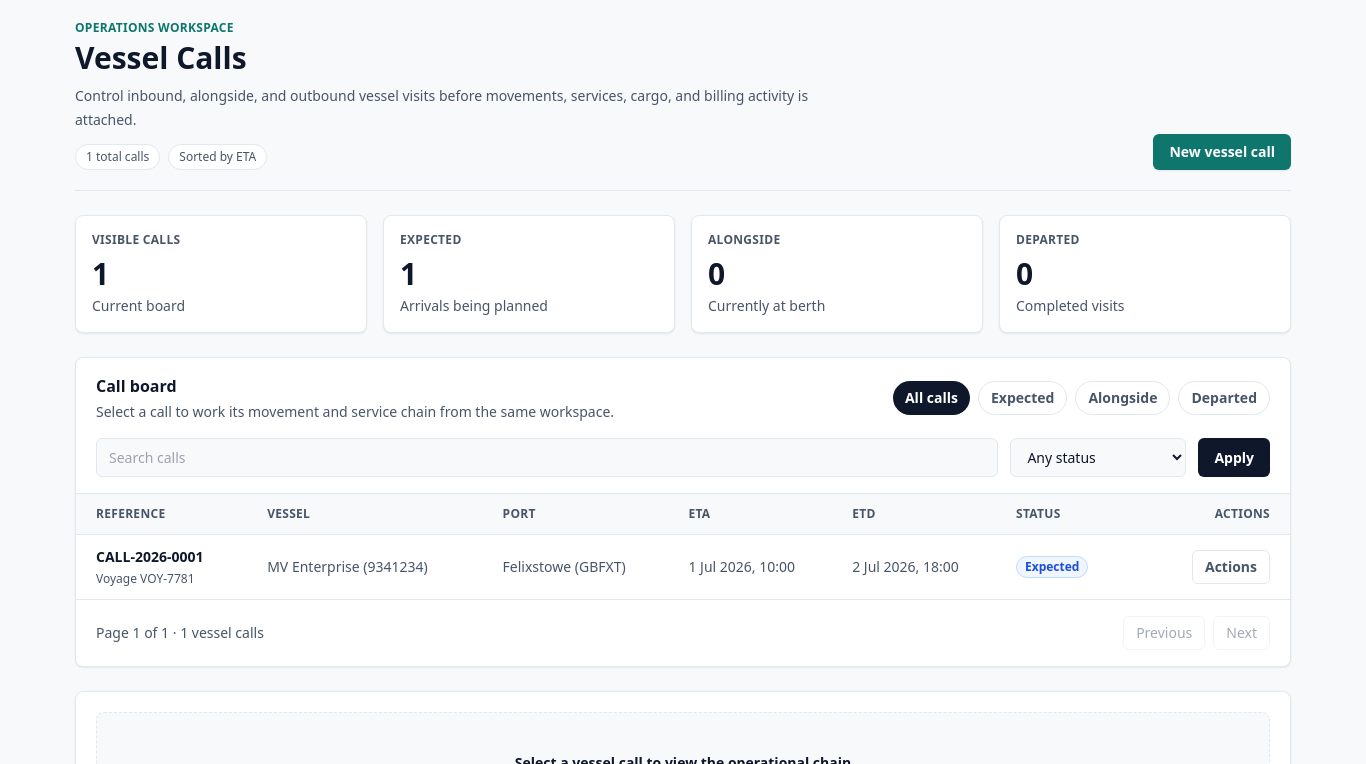
Test case: VesselCallsPage › opens movement and service actions from the operational chain
The image size is (1366, 764).
Expected: the text "CALL-2026-0001" is shown, [96,547,204,567]
Click the row "CALL-2026-0001".
click(150, 556)  # box [76,534,1290,599]
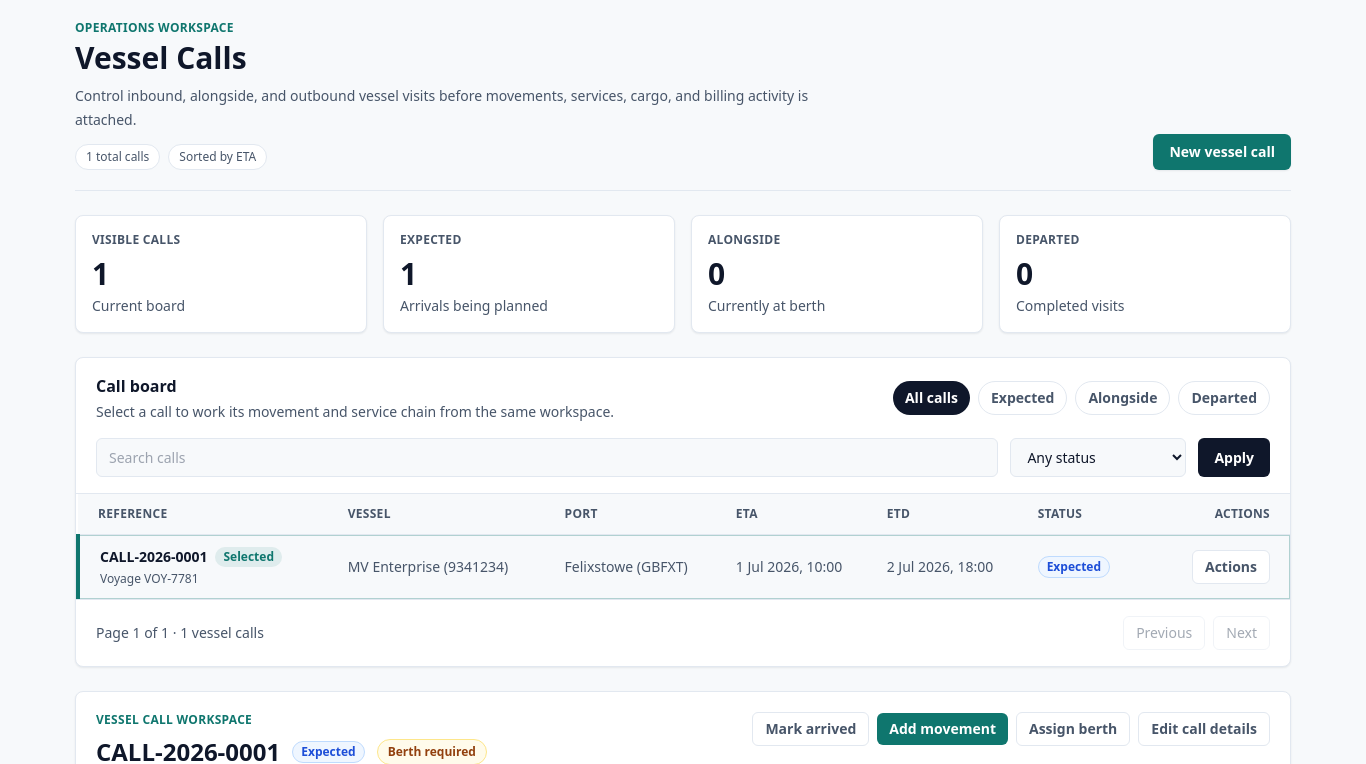
Click the button "Add movement".
click(943, 729)  # box [877,713,1008,745]
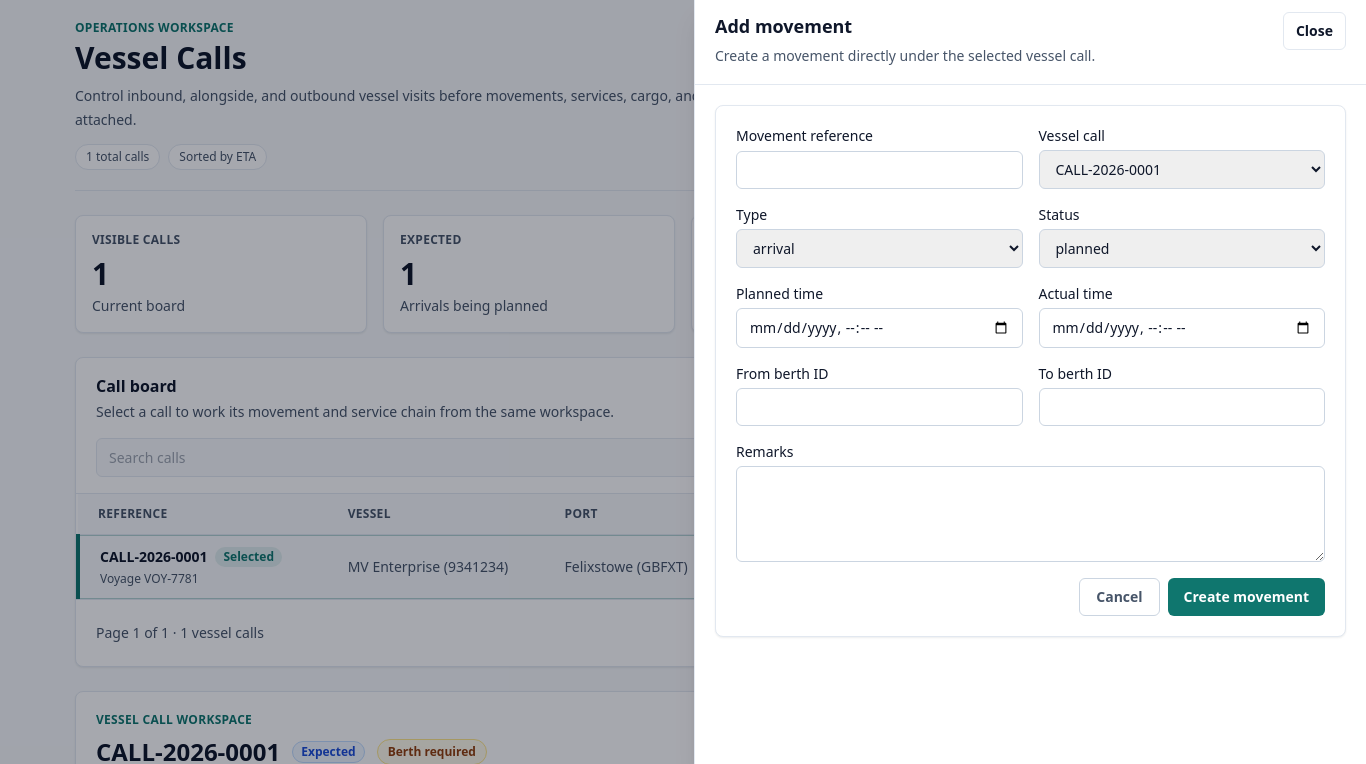
Result: the heading "Add movement" is shown at [715,14,852,38]
Result: the dropdown showing "CALL-2026-0001" is shown at [1038,150,1325,189]
Click the button "Close".
click(1314, 31)  # box [1283,12,1346,50]
(page scrolled)
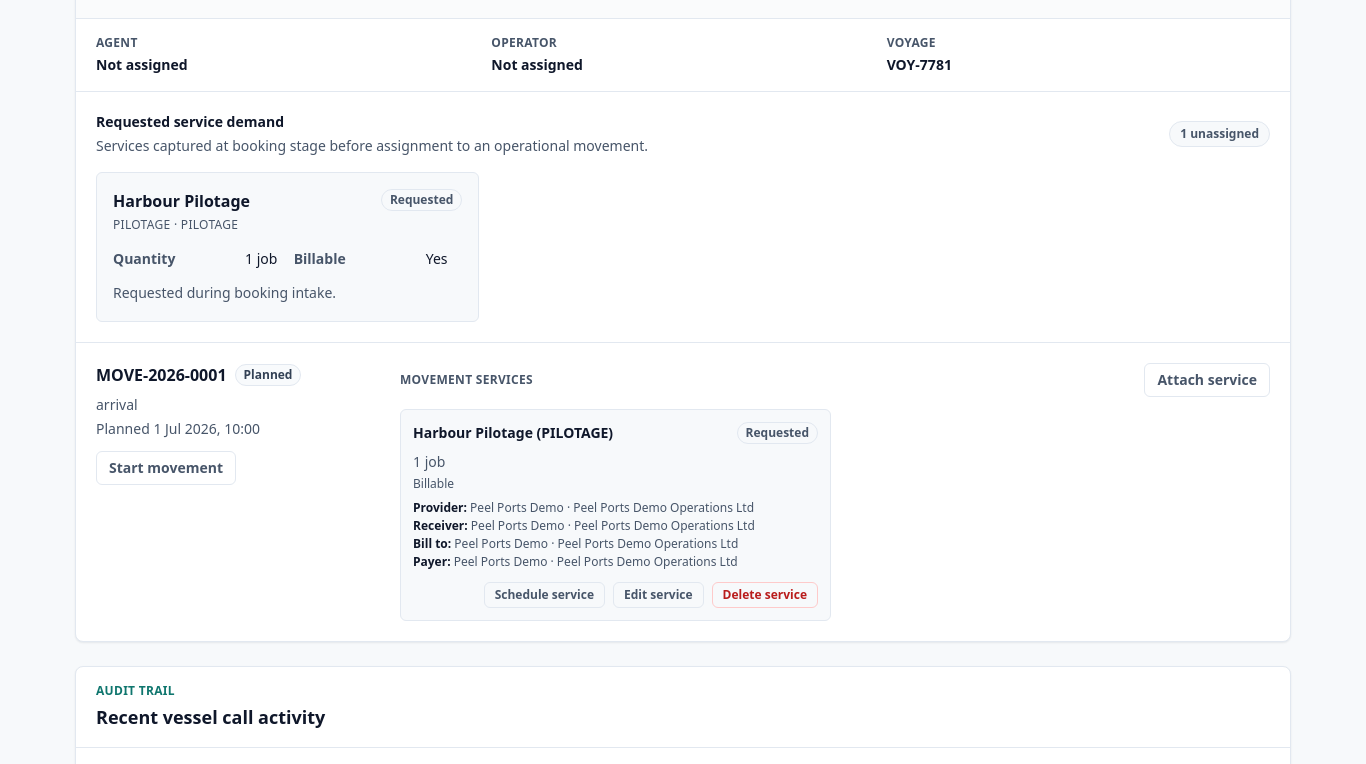
Click the button "Attach service".
click(1207, 380)  # box [1144,363,1270,397]
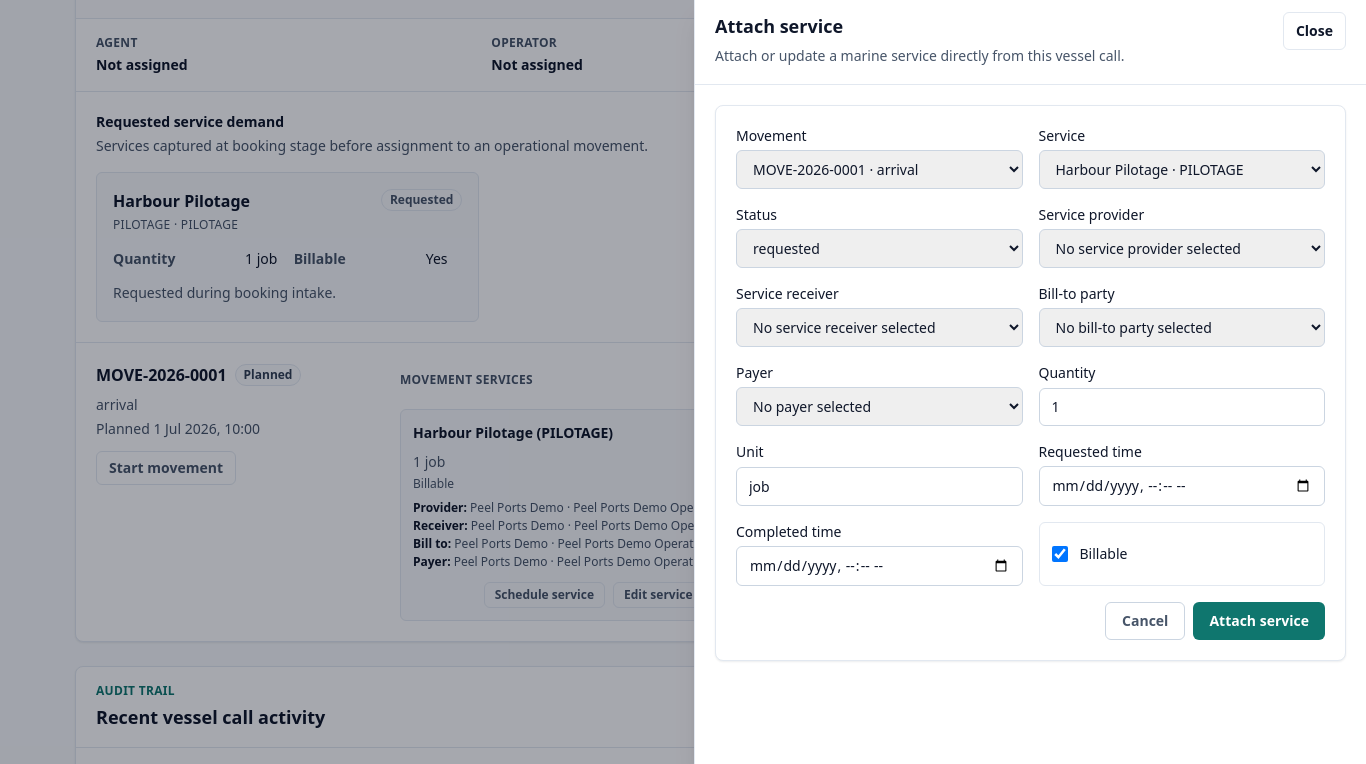
Result: the heading "Attach service" is shown at [715,14,843,38]
Result: the dropdown showing "MOVE-2026-0001 · arrival" is shown at [736,150,1022,189]
Result: the dropdown showing "Harbour Pilotage · PILOTAGE" is shown at [1038,150,1325,189]
